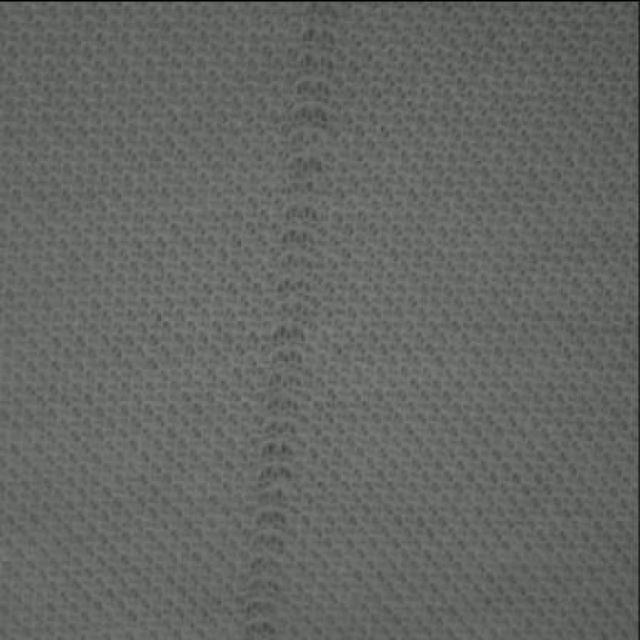Line: (241, 5, 336, 640)
